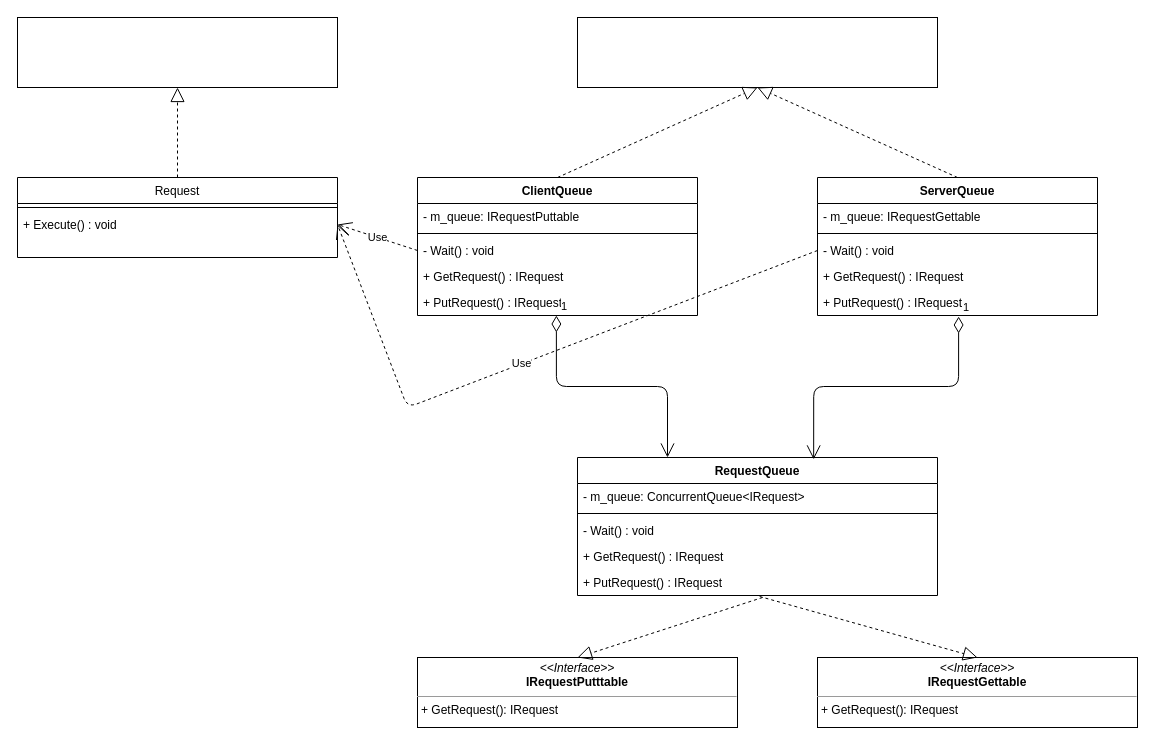
Image size: 1155x745. Some labels were removed from this diagram. Here are the shapes that lost their labels. From the top down, the centre of each, then its label:
At (177,52): "<<Interface>> IRequest + Execute(): void".
At (757,52): "<<Interface>> ITask + Execute(): void".
